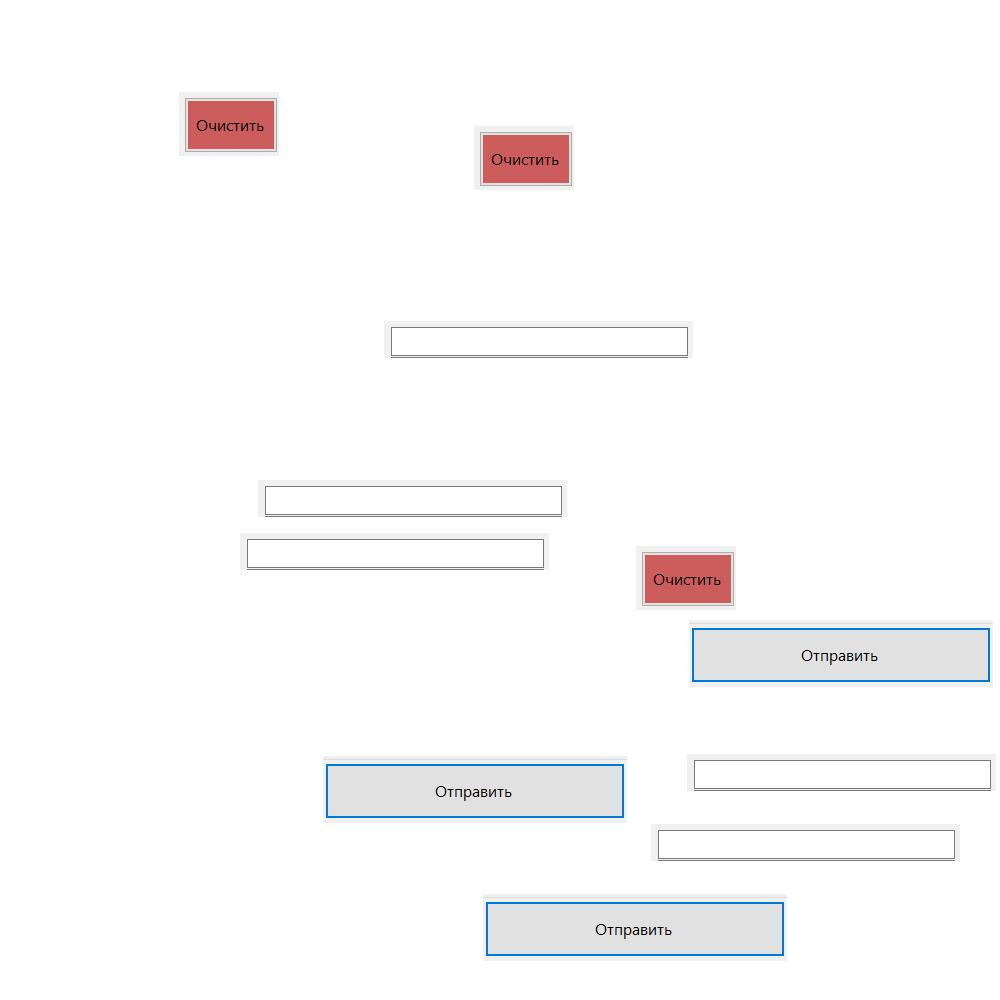Button: (689, 620, 993, 687), (483, 894, 787, 961), (323, 756, 627, 823), (636, 546, 736, 610), (179, 92, 279, 156), (474, 126, 574, 190)
EditText-: (687, 754, 996, 791), (240, 533, 549, 570), (258, 480, 567, 517), (384, 321, 693, 358), (651, 824, 960, 861)
